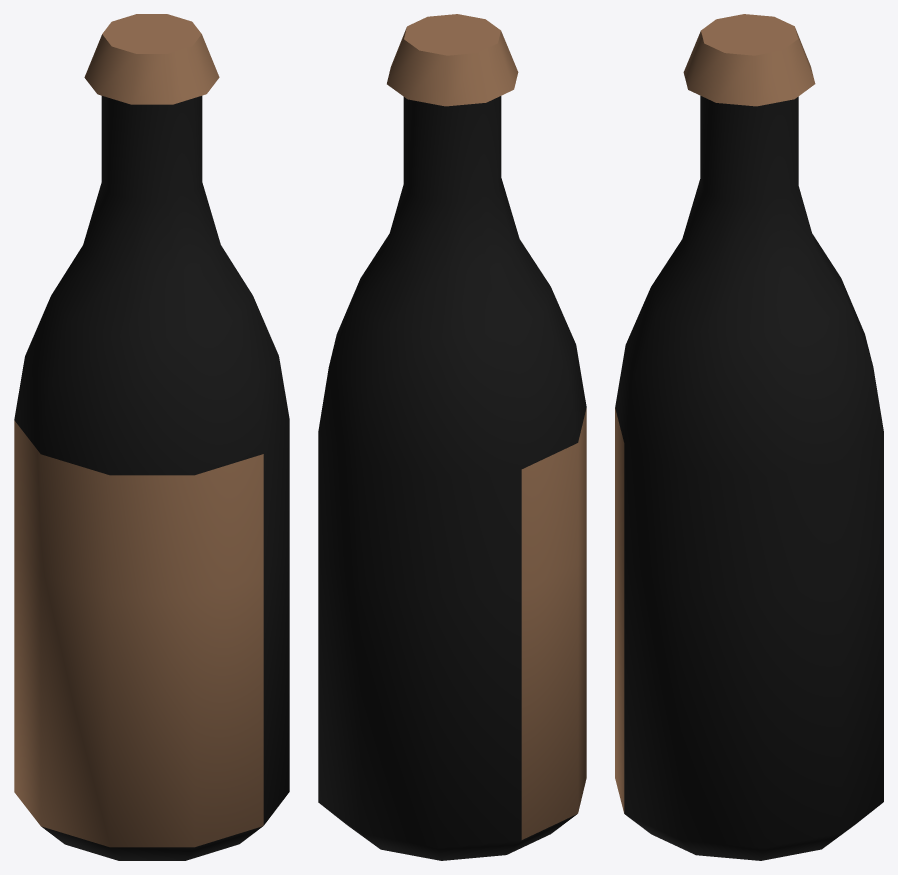
The model's file is bottle.glb.
3 views of the same model, side by side, from view 1: azimuth 30°, elevation 25°; view 2: azimuth 150°, elevation 25°; view 3: azimuth 270°, elevation 25° (orthographic).
Parts seen in each view (by area): view 1: Environment_Bottle; view 2: Environment_Bottle; view 3: Environment_Bottle.
Boxes of the visible parts, x1,y1,x2,y2 form: Environment_Bottle: [14, 14, 289, 860]; Environment_Bottle: [318, 14, 586, 860]; Environment_Bottle: [615, 14, 883, 860].
Bounding box in the file's own units: 0.3086 × 0.974 × 0.3038.
